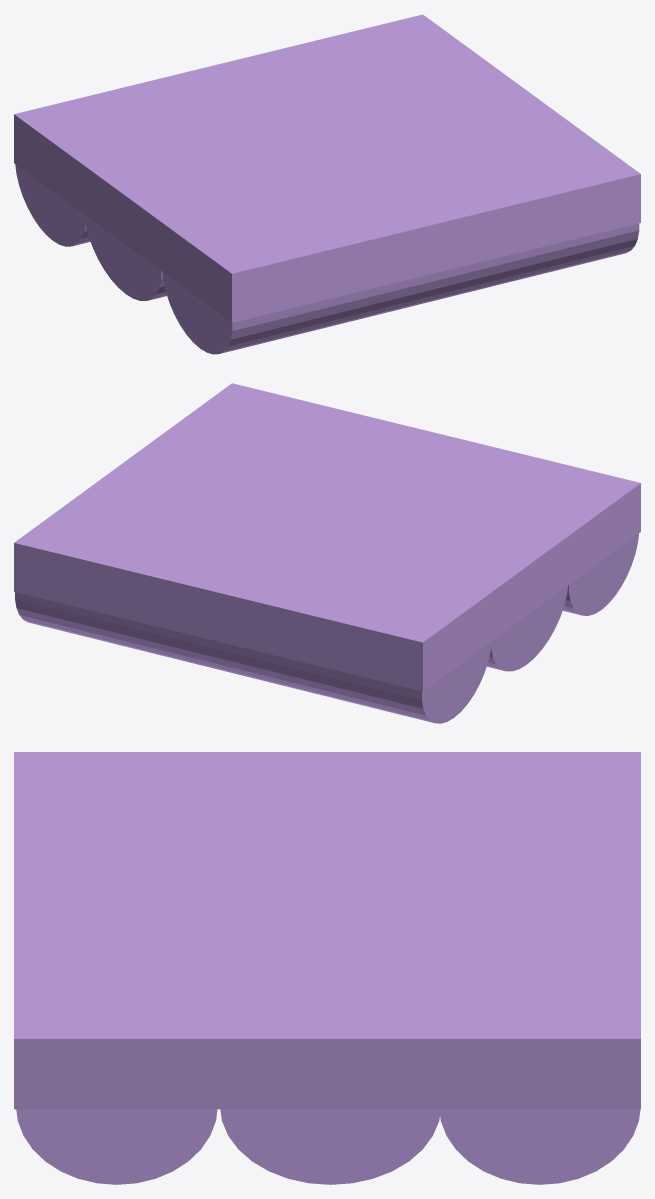
Rendered from nube.fbx.
The picture shows the model from 3 angles, top to bottom: view 1: azimuth 30°, elevation 25°; view 2: azimuth 150°, elevation 25°; view 3: azimuth 270°, elevation 25°; orthographic projection. The views are drawn at different scales.
Visible parts, largest first — view 1: Cube; view 2: Cube; view 3: Cube.
Part boxes in pixels (<box>): Cube: <box>14,14,640,354</box>; Cube: <box>14,383,640,723</box>; Cube: <box>14,752,640,1184</box>.
Bounding box in the file's own units: 2.18 × 0.5164 × 2.
